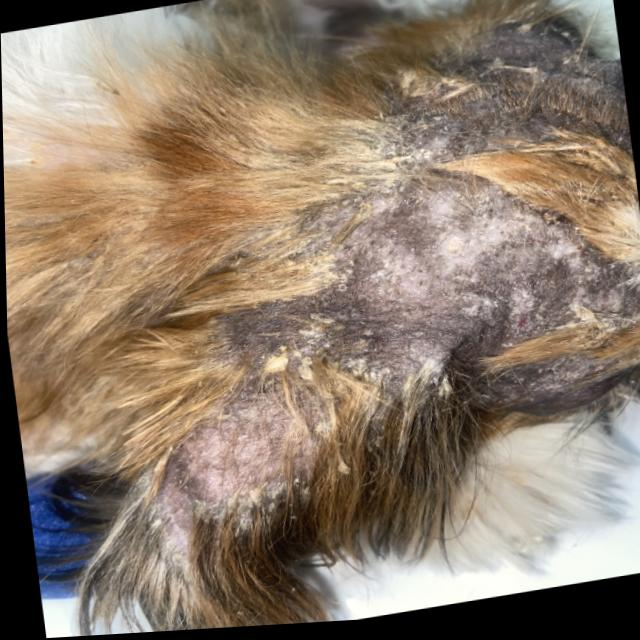demodicosis: (314, 150, 617, 447), (344, 0, 615, 162), (132, 358, 333, 547)
